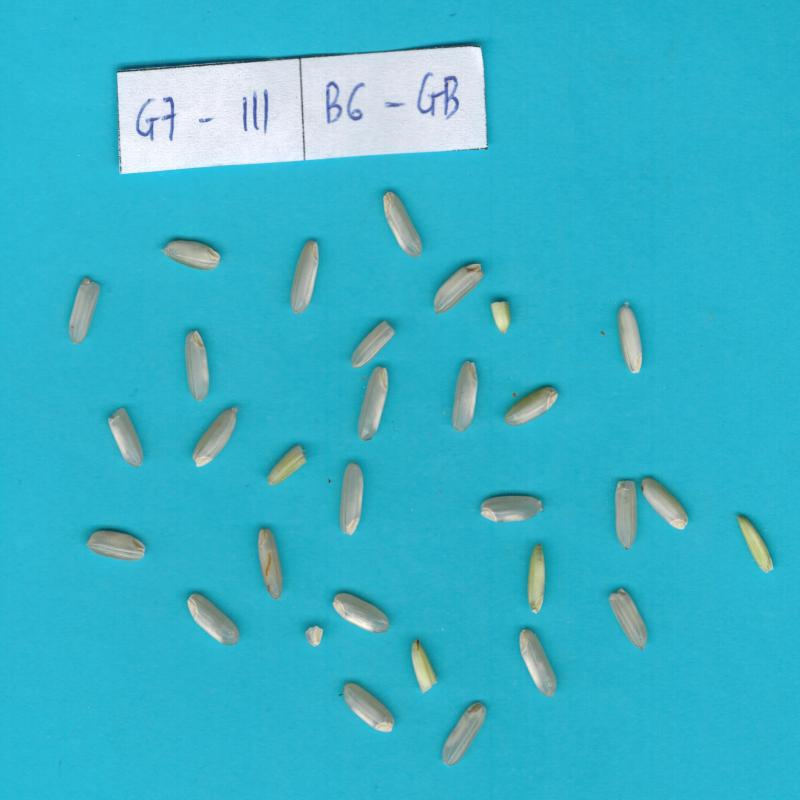Break: (608, 588, 647, 650), (68, 278, 100, 344), (351, 321, 395, 368), (108, 408, 143, 467), (738, 516, 773, 573), (267, 445, 306, 485), (615, 480, 636, 550), (411, 639, 437, 694), (491, 301, 510, 334)
Rice: (442, 702, 485, 766), (192, 408, 238, 467), (187, 594, 238, 646), (383, 191, 422, 258), (519, 629, 557, 697), (433, 264, 483, 314), (642, 477, 689, 530), (344, 683, 394, 732), (332, 593, 389, 633), (358, 367, 388, 441), (505, 387, 558, 426), (291, 240, 318, 314), (87, 530, 145, 561), (452, 361, 477, 432), (618, 304, 643, 373), (163, 240, 220, 270), (185, 330, 209, 401), (340, 463, 363, 536), (480, 496, 543, 522), (259, 529, 282, 600), (528, 544, 546, 614)
